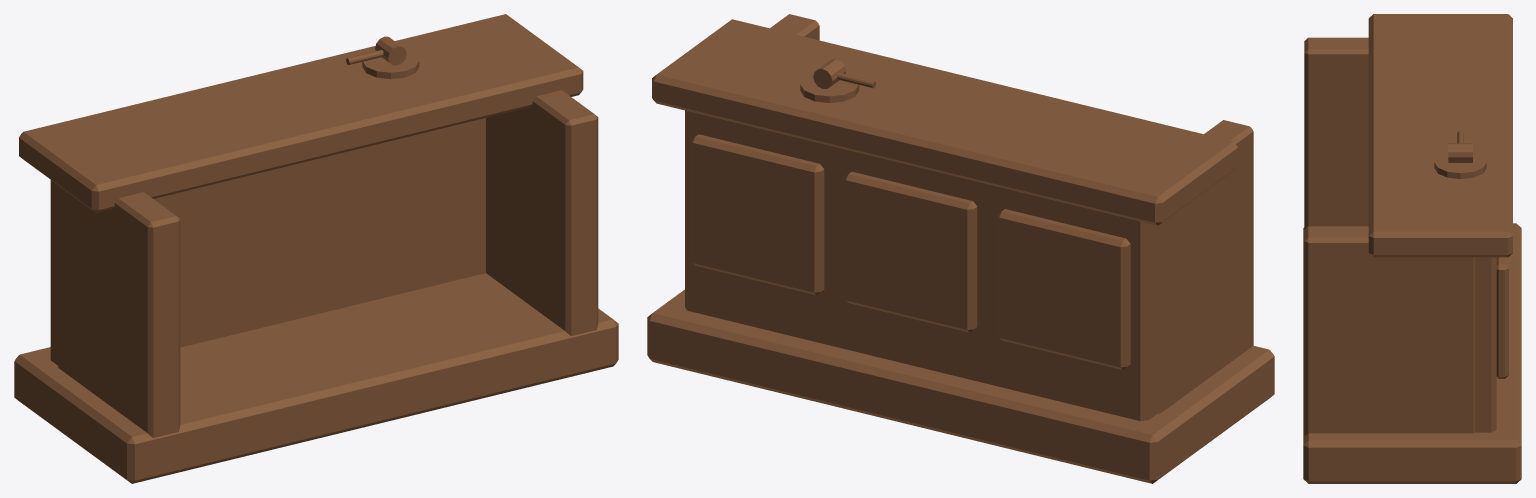
File: courtroom-bench.glb
The picture shows the model from 3 angles, left to right: view 1: azimuth 30°, elevation 25°; view 2: azimuth 150°, elevation 25°; view 3: azimuth 270°, elevation 25°; orthographic projection. The views are drawn at different scales.
Parts seen in each view (by area): view 1: Board, Board.001, Board.007, Board.002, Board.003, Cone, gavel; view 2: Board.007, Board.001, Board, Board.002, Board.004, Board.005, Board.006, Cone, gavel, Board.003; view 3: Board.007, Board.003, Board, Board.002, Board.001, Board.006, Cone, gavel.
Part boxes in pixels (x1,y1,x2,y2): Board: [14, 273, 618, 483]; Board.001: [50, 118, 485, 365]; Board.007: [19, 14, 583, 212]; Board.002: [58, 185, 180, 437]; Board.003: [486, 90, 598, 335]; Cone: [362, 51, 419, 79]; gavel: [346, 36, 406, 65]; Board.007: [652, 19, 1238, 225]; Board.001: [685, 110, 1157, 421]; Board: [647, 289, 1274, 483]; Board.002: [1157, 120, 1253, 413]; Board.004: [997, 209, 1130, 369]; Board.005: [844, 171, 977, 332]; Board.006: [691, 134, 824, 295]; Cone: [800, 73, 859, 102]; gavel: [813, 59, 876, 88]; Board.003: [770, 14, 819, 40]; Board.007: [1368, 14, 1512, 257]; Board.003: [1304, 226, 1475, 435]; Board: [1303, 223, 1521, 483]; Board.002: [1304, 37, 1368, 229]; Board.001: [1475, 257, 1496, 432]; Board.006: [1496, 257, 1508, 378]; Cone: [1434, 152, 1486, 178]; gavel: [1448, 131, 1472, 162].
Size of the model in its own units: 2.4 by 1.4 by 1.
